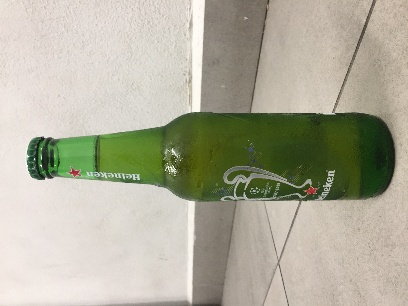HB: (152, 115, 251, 146), (49, 117, 104, 130)
